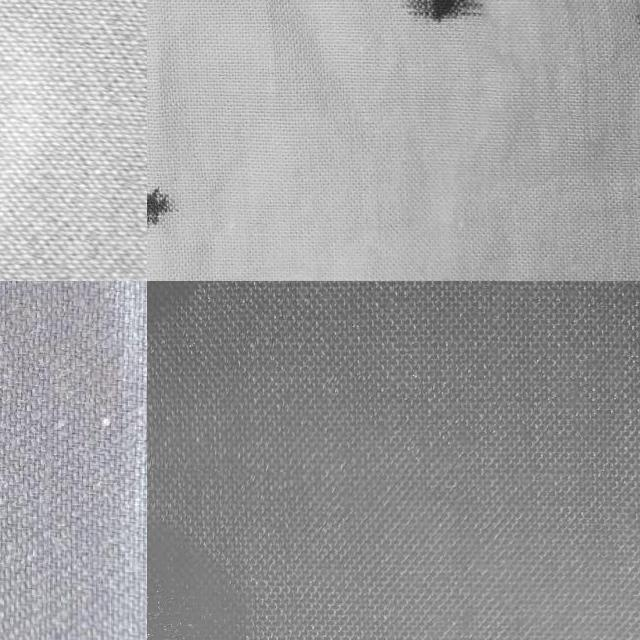Thread_other: (147, 469, 287, 640), (342, 0, 490, 53), (147, 281, 201, 385), (591, 0, 640, 113), (147, 167, 192, 281)
stains: (0, 281, 54, 640)
